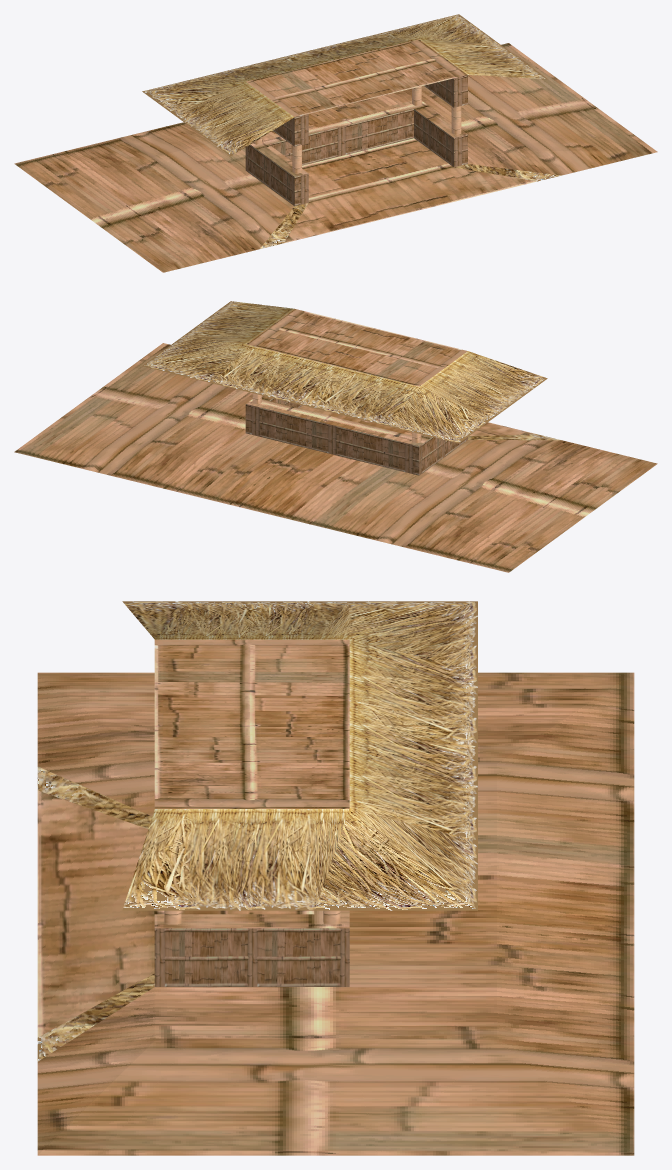
Rendered from BeachBar.glb.
3 renders of one model, top to bottom at view 1: azimuth 30°, elevation 25°; view 2: azimuth 150°, elevation 25°; view 3: azimuth 270°, elevation 25°, orthographic. The views are drawn at different scales.
Visible parts, largest first — view 1: Bar; view 2: Bar; view 3: Bar.
Boxes of the visible parts, x1,y1,x2,y2 form: Bar: [14, 14, 657, 272]; Bar: [14, 301, 657, 572]; Bar: [37, 601, 634, 1155].
Size of the model in its own units: 16.34 by 2.99 by 8.54.
1 material, 1 textured.
